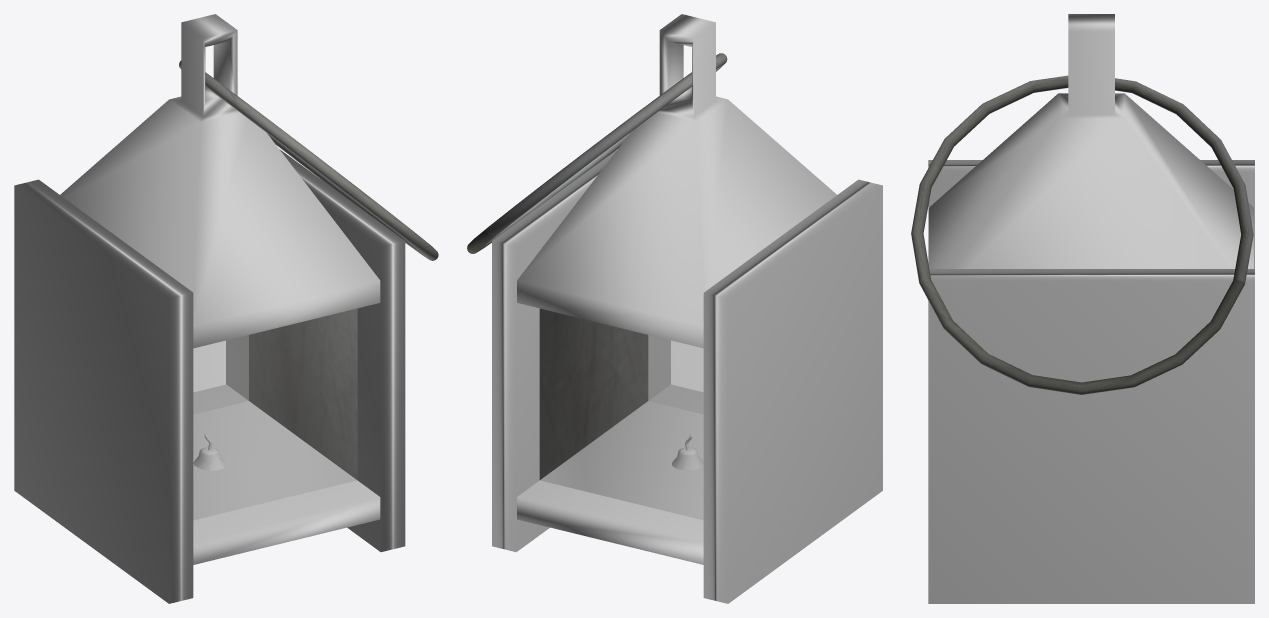
The model's file is Lantern.fbx.
3 renders of one model, left to right at view 1: azimuth 30°, elevation 25°; view 2: azimuth 150°, elevation 25°; view 3: azimuth 270°, elevation 25°, orthographic. The views are drawn at different scales.
Parts seen in each view (by area): view 1: pCube7, pTorus1; view 2: pCube7, pTorus1; view 3: pCube7, pTorus1.
Boxes of the visible parts, x1,y1,x2,y2 form: pCube7: [14, 14, 405, 603]; pTorus1: [179, 60, 438, 260]; pCube7: [492, 14, 882, 603]; pTorus1: [467, 53, 727, 253]; pCube7: [928, 14, 1254, 603]; pTorus1: [911, 75, 1253, 394].
Size of the model in its own units: 55.4 by 82.91 by 49.68.
